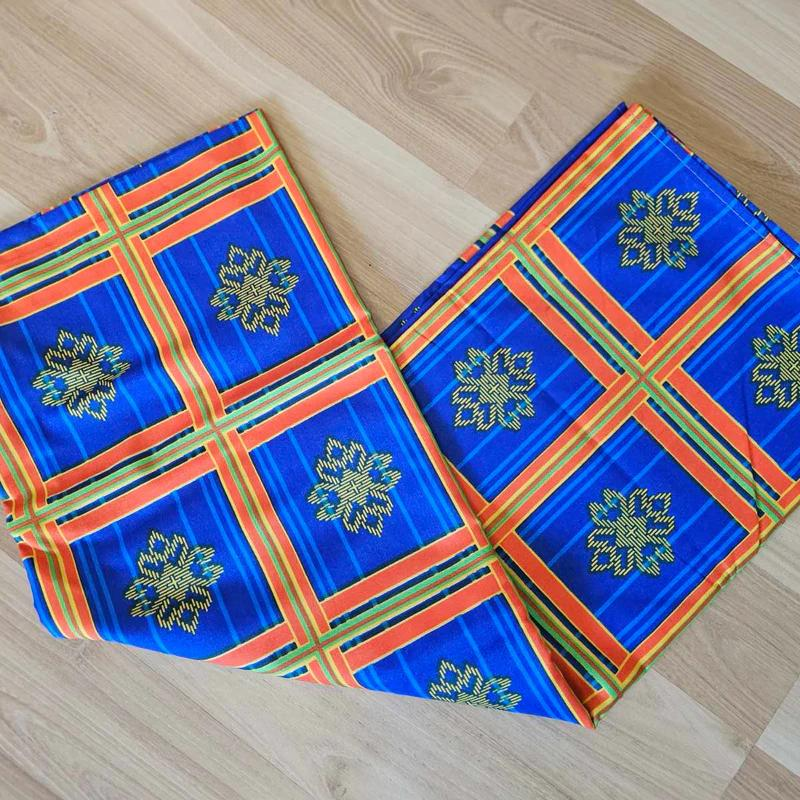malong: (0, 57, 800, 737)
